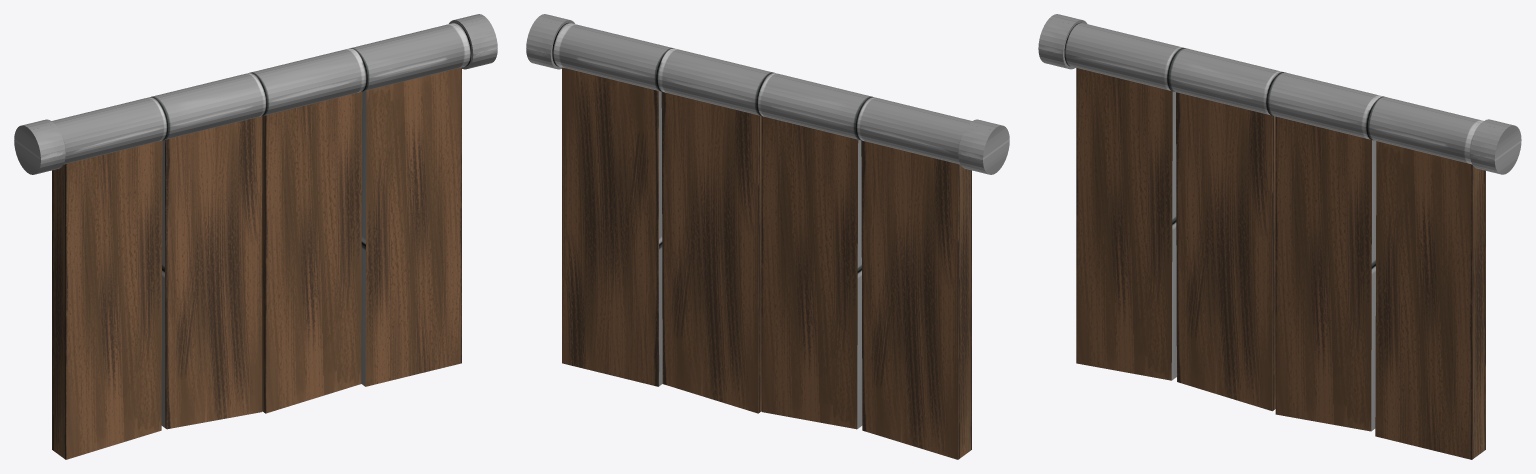
File: fold-platform.fbx
3 renders of one model, left to right at view 1: azimuth 30°, elevation 25°; view 2: azimuth 150°, elevation 25°; view 3: azimuth 330°, elevation 25°, orthographic.
Parts seen in each view (by area): view 1: Plate, Cylinder.002, Cylinder.001; view 2: Plate, Cylinder.002, Cylinder.001; view 3: Plate, Cylinder.001, Cylinder.002.
Part boxes in pixels (x1,y1,x2,y2): Plate: [52, 22, 471, 459]; Cylinder.002: [14, 119, 65, 174]; Cylinder.001: [449, 14, 497, 69]; Plate: [552, 22, 971, 459]; Cylinder.002: [958, 119, 1009, 174]; Cylinder.001: [526, 14, 574, 69]; Plate: [1064, 22, 1485, 459]; Cylinder.001: [1470, 119, 1521, 174]; Cylinder.002: [1038, 14, 1087, 69].
Size of the model in its own units: 945 by 667 by 96.28.
Materials: 2 (2 with a texture image).
